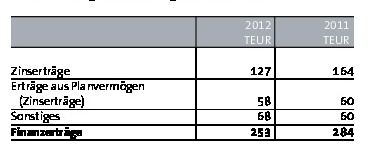table: (0, 0, 370, 159)
